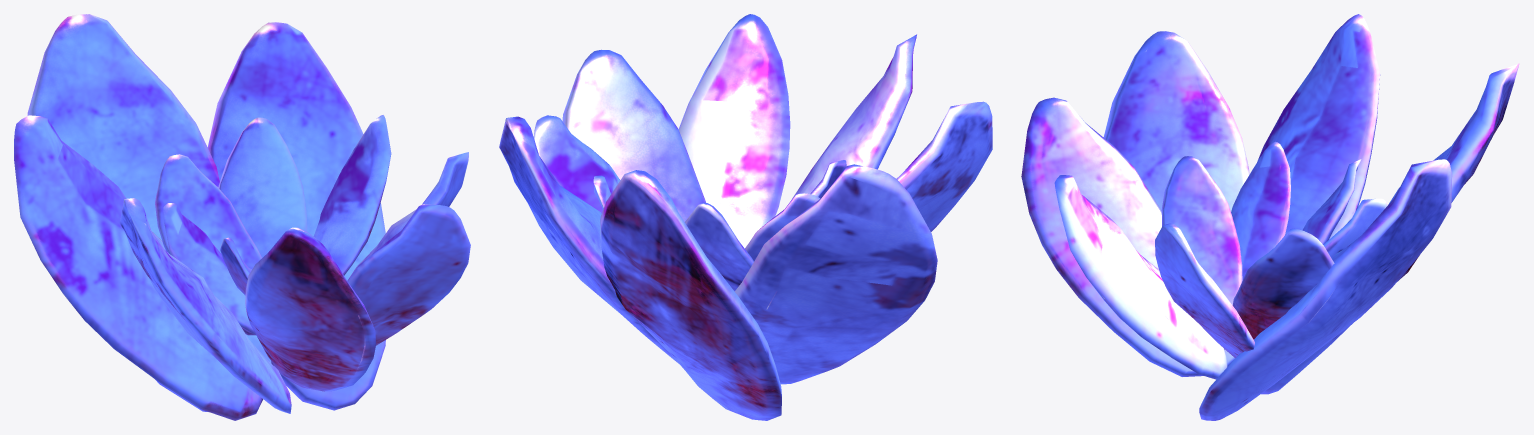
Rendered from MysticonsSmallPlant.glb.
The picture shows the model from 3 angles, left to right: view 1: azimuth 30°, elevation 25°; view 2: azimuth 150°, elevation 25°; view 3: azimuth 270°, elevation 25°; orthographic projection. The views are drawn at different scales.
Parts seen in each view (by area): view 1: Retopo_立方体.002; view 2: Retopo_立方体.002; view 3: Retopo_立方体.002.
Boxes of the visible parts, x1,y1,x2,y2 form: Retopo_立方体.002: (14,14,470,420); Retopo_立方体.002: (499,14,992,420); Retopo_立方体.002: (1021,14,1519,420).
Size of what is drawn, in the model's own units: 1.9 by 1.47 by 2.13.
1 material, 1 textured.
